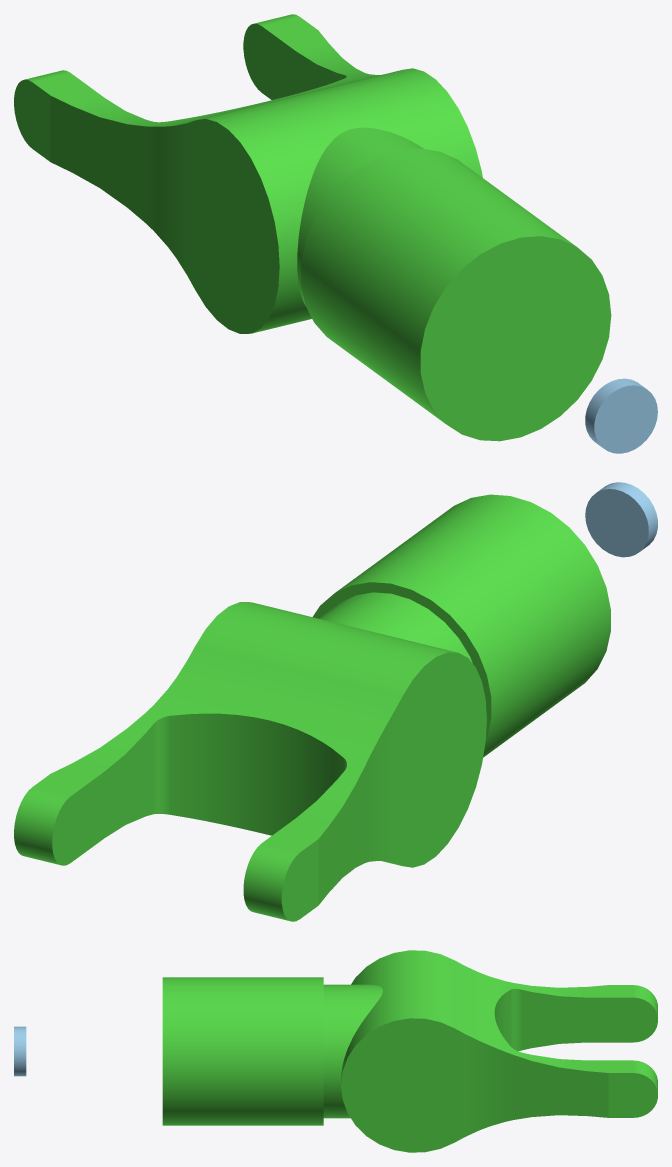
File: L_Forearm_Yaw_Assy.obj
3 views of the same model, one above another, from view 1: azimuth 30°, elevation 25°; view 2: azimuth 150°, elevation 25°; view 3: azimuth 270°, elevation 25° (orthographic). The views are drawn at different scales.
Visible parts, largest first — view 1: mesh4, mesh3, mesh7, mesh9, mesh12, mesh10, mesh6, mesh23, mesh0, mesh22, mesh13, mesh14 (+2 smaller); view 2: mesh4, mesh22, mesh19, mesh9, mesh7, mesh23, mesh6, mesh10, mesh12, mesh2, mesh28, mesh16 (+6 smaller); view 3: mesh4, mesh8, mesh17, mesh7, mesh24, mesh22, mesh6, mesh11, mesh27, mesh18, mesh1, mesh19 (+4 smaller).
Boxes of the visible parts, box(x1,y1,x2,y2) form: mesh4: box(301, 148, 576, 423); mesh3: box(420, 236, 611, 441); mesh7: box(196, 68, 482, 333); mesh9: box(187, 119, 279, 333); mesh12: box(50, 96, 145, 222); mesh10: box(145, 123, 187, 274); mesh6: box(297, 127, 423, 305); mesh23: box(243, 23, 344, 99); mesh0: box(594, 385, 657, 453); mesh22: box(73, 43, 380, 126); mesh13: box(14, 79, 50, 161); mesh14: box(32, 73, 104, 105); mesh4: box(335, 494, 610, 757); mesh22: box(72, 646, 401, 825); mesh19: box(170, 713, 343, 835); mesh9: box(394, 652, 486, 867); mesh7: box(195, 602, 456, 696); mesh23: box(52, 724, 153, 865); mesh6: box(319, 592, 472, 663); mesh10: box(365, 711, 394, 863); mesh12: box(318, 767, 364, 905); mesh2: box(585, 489, 648, 557); mesh28: box(14, 787, 70, 865); mesh16: box(243, 843, 299, 920); mesh4: box(162, 977, 323, 1125); mesh8: box(341, 1018, 465, 1152); mesh17: box(521, 990, 657, 1050); mesh7: box(341, 950, 454, 1083); mesh24: box(513, 1055, 608, 1119); mesh22: box(455, 960, 586, 1070); mesh6: box(323, 984, 382, 1118); mesh11: box(465, 1034, 513, 1136); mesh27: box(608, 1073, 657, 1117); mesh18: box(510, 988, 521, 1051); mesh1: box(14, 1026, 26, 1076); mesh19: box(494, 990, 510, 1045).
Bounding box in the file's own units: 0.084 × 0.0599 × 0.2599.
